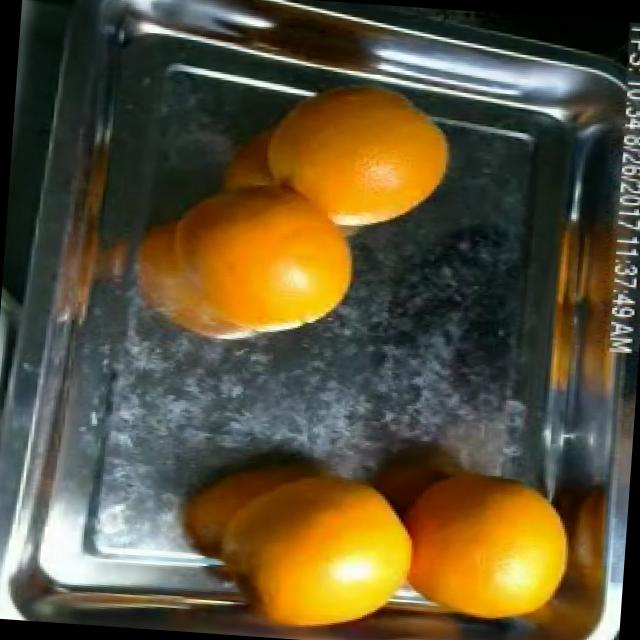Fruit: (205, 202, 378, 350)
